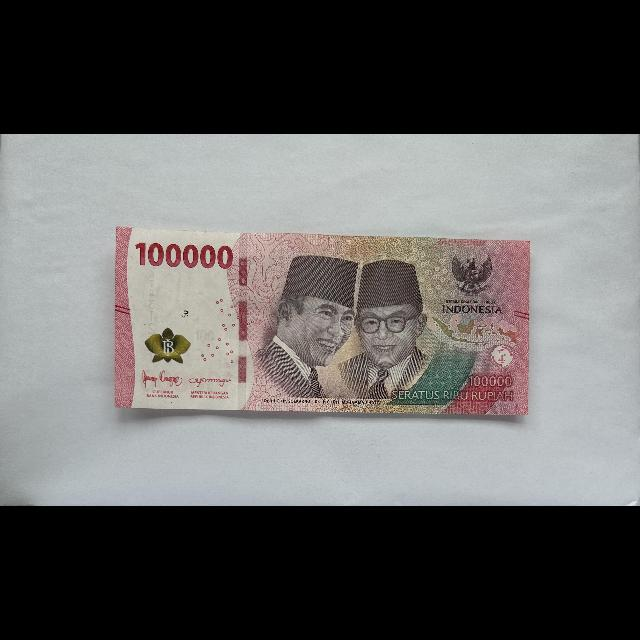Asli-100k: (114, 225, 531, 417)
Tinta-Asli-100k: (145, 328, 192, 365)
